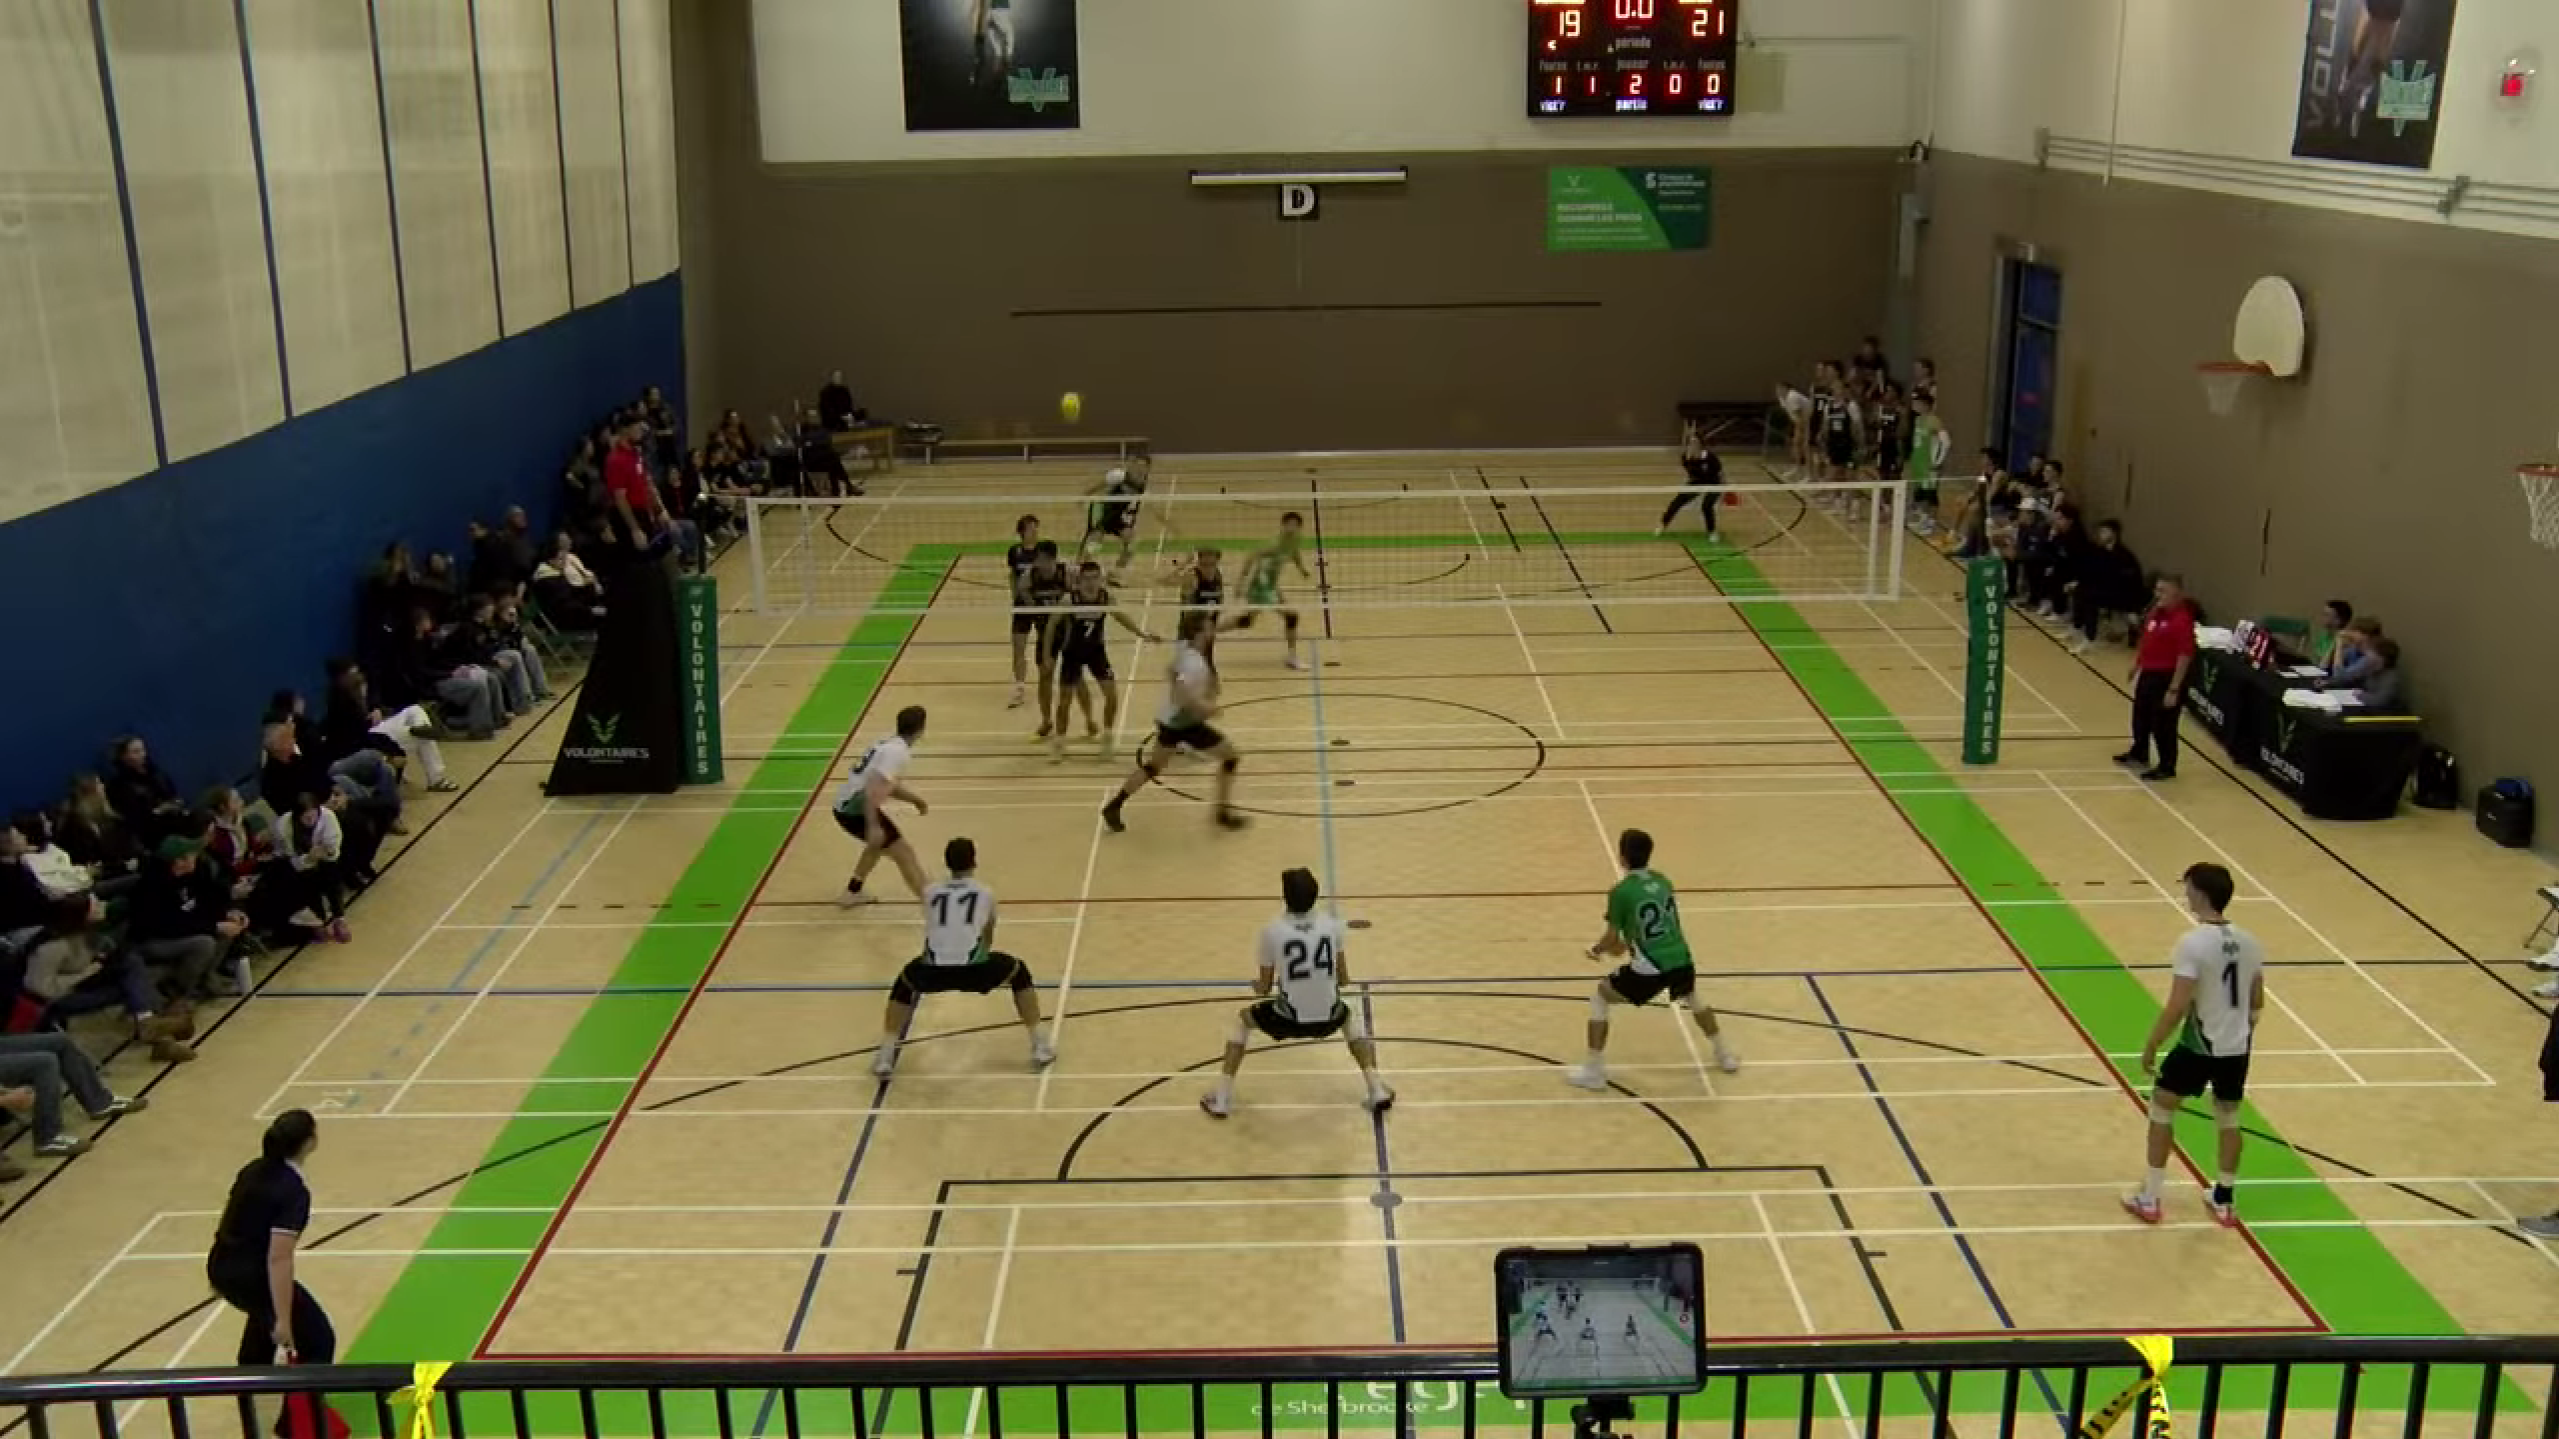Ball: (1055, 388, 1088, 427)
